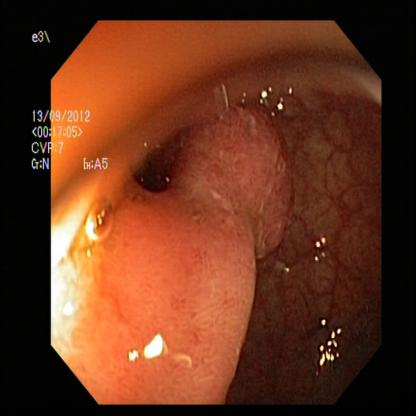Labels: (30, 101, 113, 178)
Polyps: (203, 120, 295, 248)
